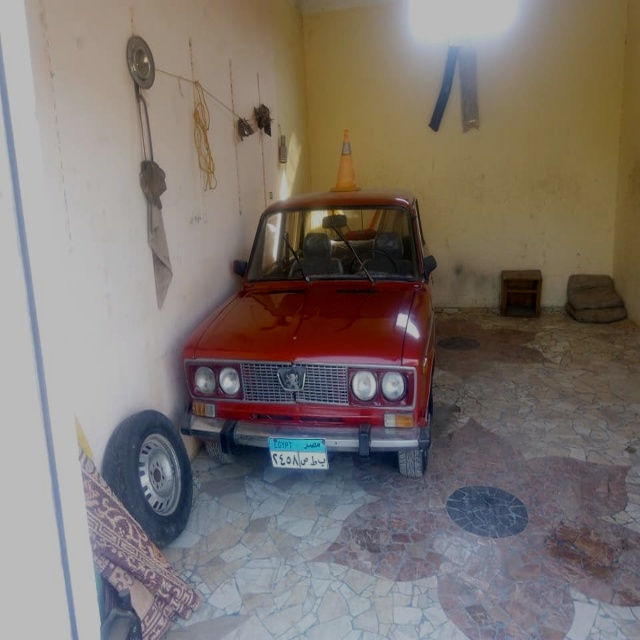License Plate: (267, 436, 330, 472)
